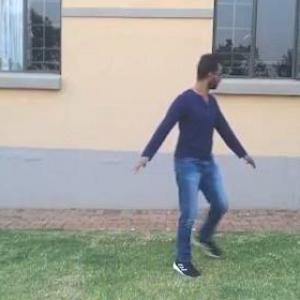land: (134, 46, 261, 267)
